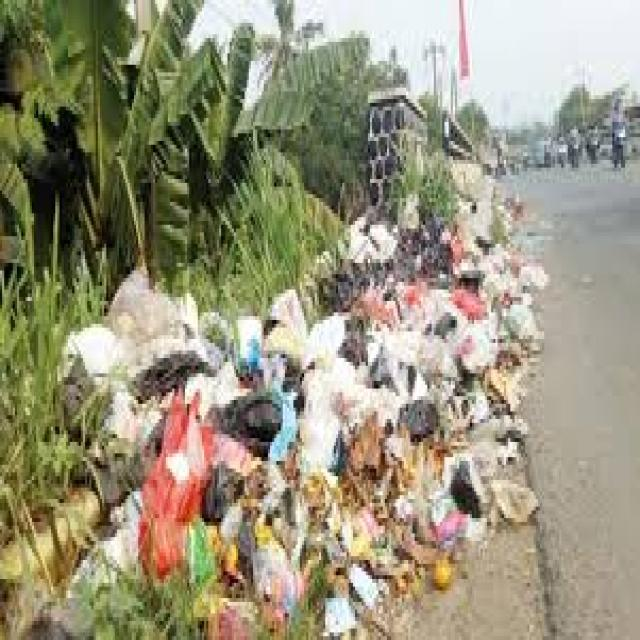trash: (23, 250, 608, 637)
